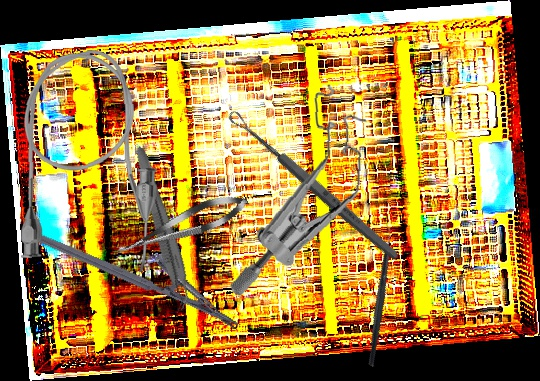Cannula: (17, 49, 159, 274)
Chopper: (319, 220, 437, 368)
Micro Scissor: (111, 186, 253, 265)
Needle Holder: (33, 203, 252, 332)
Speculum: (226, 76, 373, 305)
Surgical Spoon: (226, 107, 402, 264)
Tissue Forceps: (124, 144, 199, 314)
